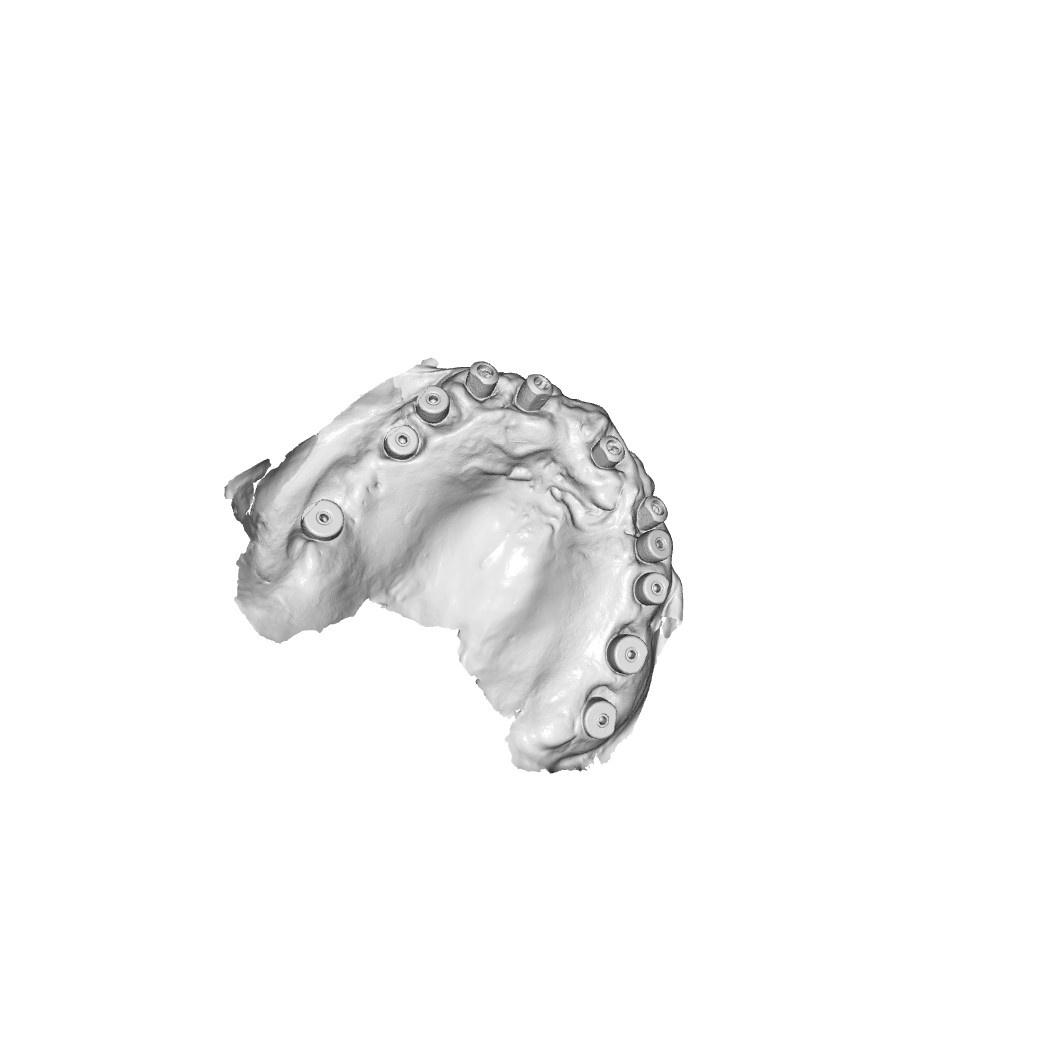implant: (606, 629, 650, 682), (301, 497, 346, 540), (583, 694, 621, 736), (413, 383, 451, 423), (463, 360, 500, 401), (384, 425, 421, 465), (520, 372, 556, 411), (591, 433, 627, 472), (638, 572, 670, 611), (634, 494, 668, 527), (638, 528, 670, 561)
